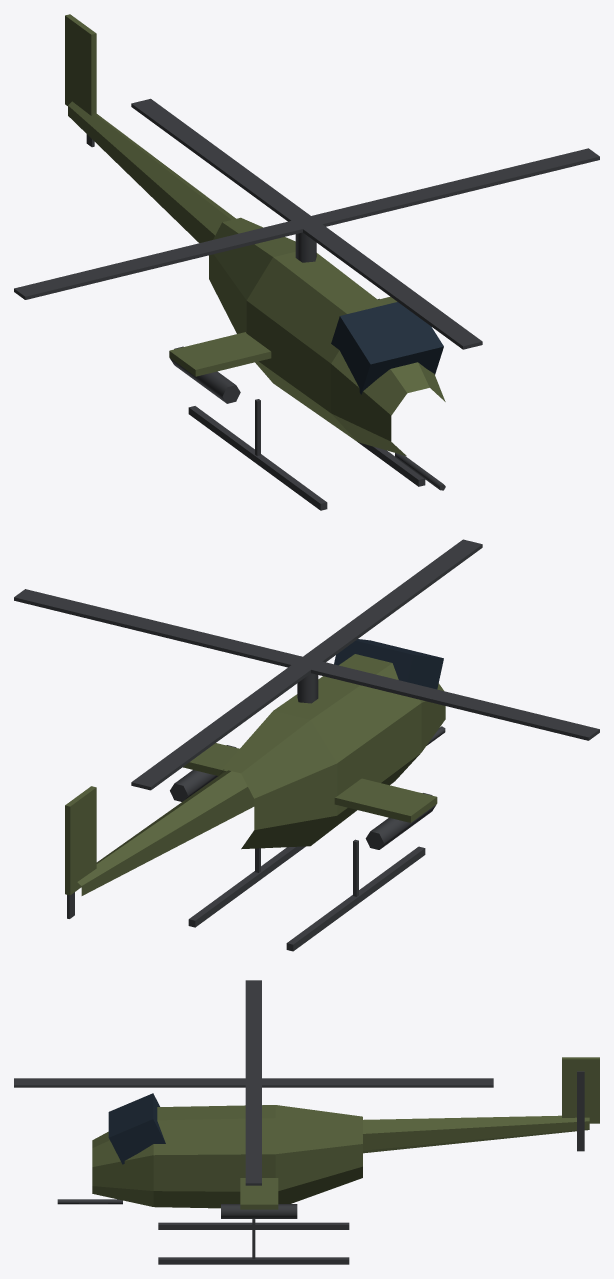
The model's file is veh_air_heli_attack_a06.glb.
The picture shows the model from 3 angles, top to bottom: view 1: azimuth 30°, elevation 25°; view 2: azimuth 150°, elevation 25°; view 3: azimuth 270°, elevation 25°; orthographic projection. The views are drawn at different scales.
Parts seen in each view (by area): view 1: body, rotor; view 2: body, rotor; view 3: body, rotor, tail_rotor, gun.
Boxes of the visible parts, x1,y1,x2,y2 form: body: (65, 14, 445, 510); rotor: (14, 98, 599, 349); body: (65, 639, 445, 951); rotor: (14, 539, 599, 790); body: (92, 1057, 599, 1264); rotor: (14, 980, 493, 1185); tail_rotor: (577, 1071, 584, 1151); gun: (57, 1199, 122, 1204).
Size of what is drawn, in the model's own units: 8.8 by 3.8 by 10.75.
